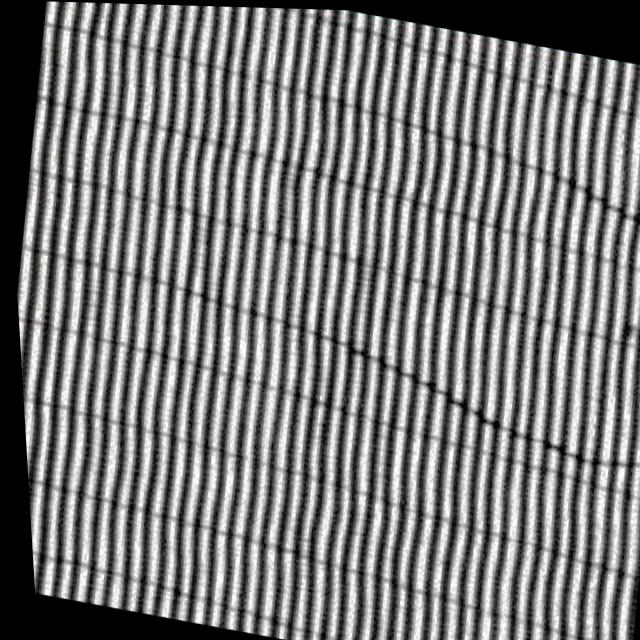Stitch: (267, 291, 640, 511)
